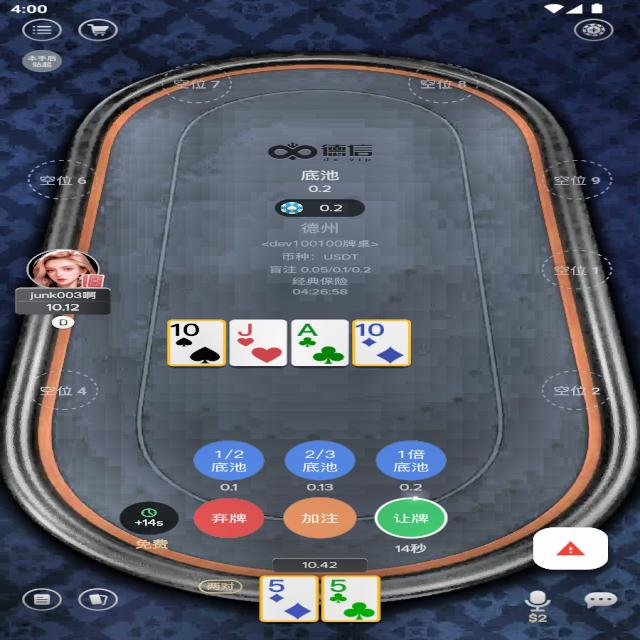10f: (354, 323, 388, 338)
10s: (170, 321, 201, 337)
5f: (266, 577, 290, 594)
5m: (326, 578, 351, 594)
Am: (296, 320, 319, 338)
Jh: (235, 320, 258, 338)
